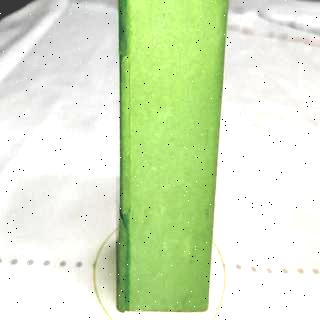greenbox: (112, 0, 234, 312)
